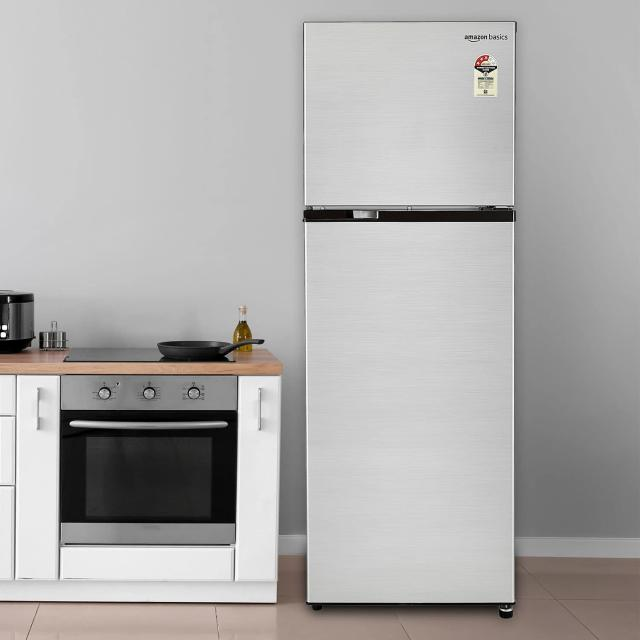refrigerator: (302, 21, 517, 606)
